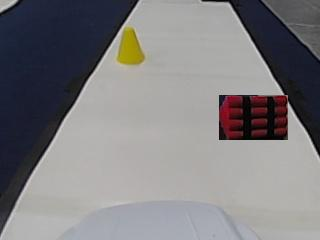cone: (117, 29, 144, 64)
